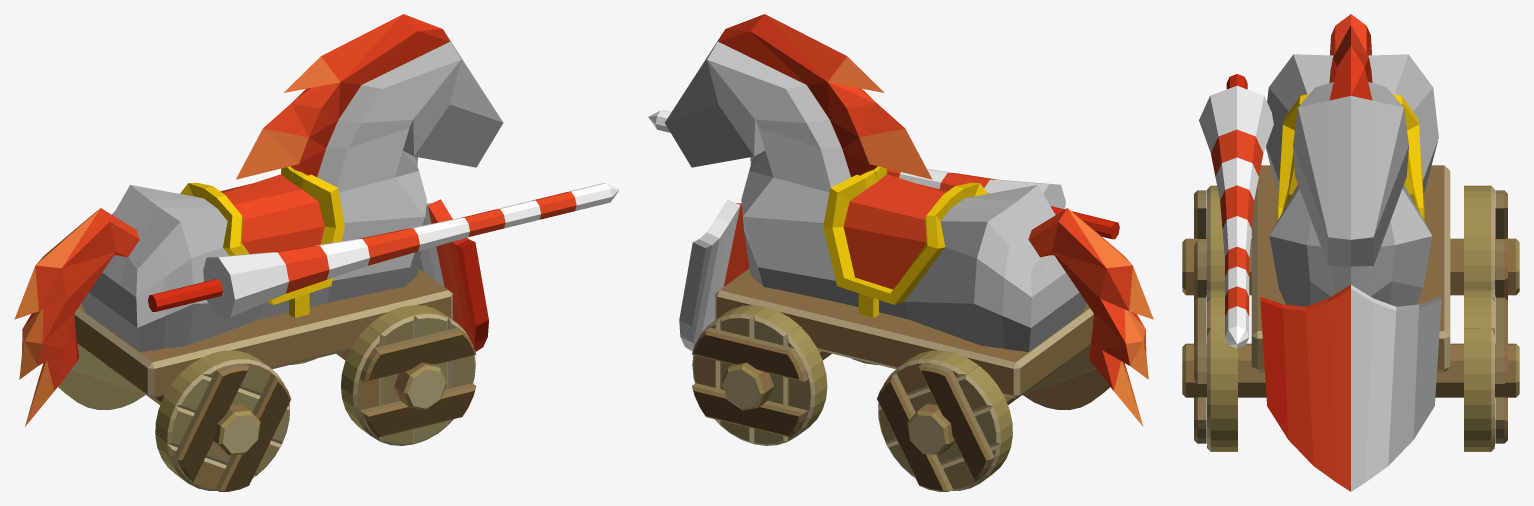
File: Runestrife-Enemy-Knight.fbx
3 views of the same model, side by side, from view 1: azimuth 30°, elevation 25°; view 2: azimuth 150°, elevation 25°; view 3: azimuth 270°, elevation 25° (orthographic). The views are drawn at different scales.
Parts seen in each view (by area): view 1: Knight, Wheels Back, Wheels Front; view 2: Knight, Wheels Back, Wheels Front; view 3: Knight, Wheels Front, Wheels Back.
Part boxes in pixels (left/top/right/bottom): Knight: left=14, top=14, right=619, bottom=426; Wheels Back: left=58, top=344, right=291, bottom=491; Wheels Front: left=291, top=305, right=476, bottom=445; Knight: left=648, top=14, right=1153, bottom=426; Wheels Back: left=877, top=344, right=1109, bottom=491; Wheels Front: left=692, top=305, right=877, bottom=445; Knight: left=1199, top=14, right=1450, bottom=491; Wheels Front: left=1182, top=289, right=1519, bottom=451; Wheels Back: left=1182, top=185, right=1519, bottom=300.
Bounding box in the file's own units: 13842 × 19327 × 30115.
